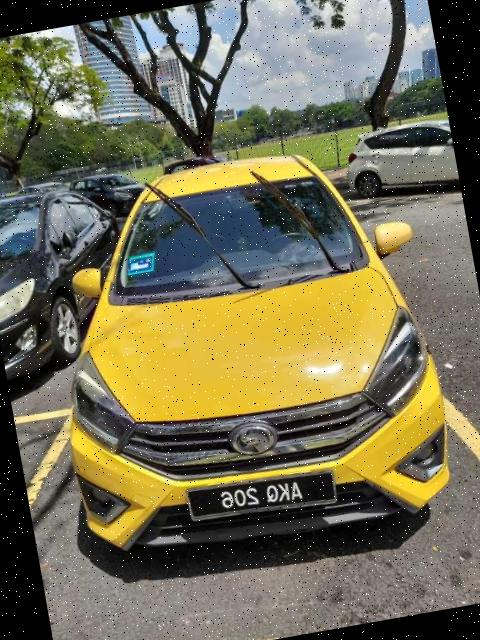License_Plate: (184, 464, 339, 529)
car: (24, 125, 464, 573)
